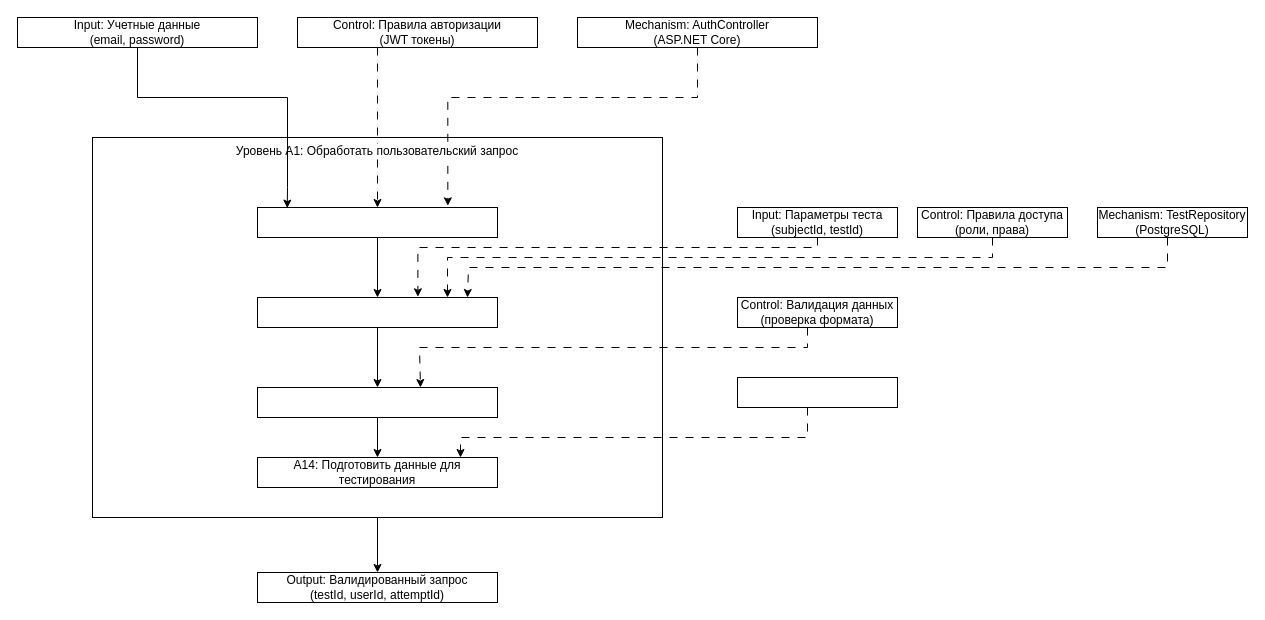
Image size: 1265x620. Some labels were removed from this diagram. The shapes that lost their labels are listed below. From the top down, each one's box as (x1, y1, x2, y2) in pixels, then its label:
(256, 206, 498, 238): A11: Аутентифицировать пользователя
(256, 296, 498, 328): A12: Получить список тестов
(256, 386, 498, 418): A13: Валидировать запрос
(736, 376, 898, 408): Mechanism: ApiClient (HTTP Client)
